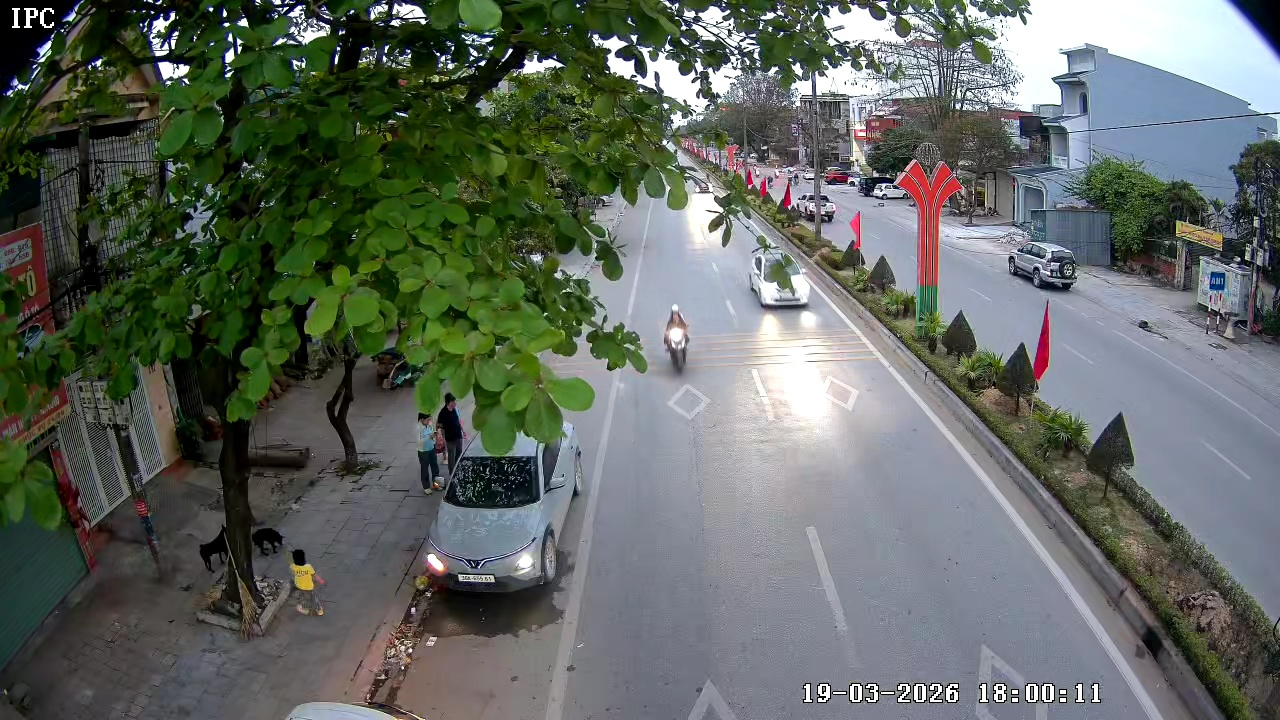car: (422, 401, 582, 599), (747, 242, 810, 310), (1007, 239, 1081, 290)
motorbike: (661, 303, 693, 374)
